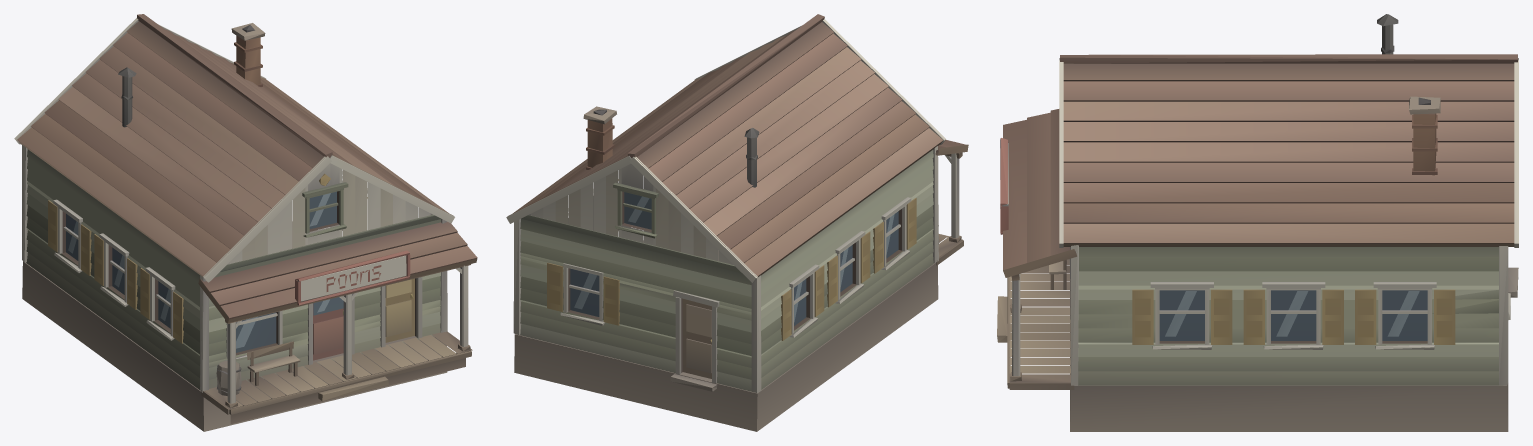
The model's file is house_6.lod1.glb.
3 views of the same model, side by side, from view 1: azimuth 30°, elevation 25°; view 2: azimuth 150°, elevation 25°; view 3: azimuth 270°, elevation 25° (orthographic). The views are drawn at different scales.
Bounding box in the file's own units: 7.52 × 7.3 × 11.25.
